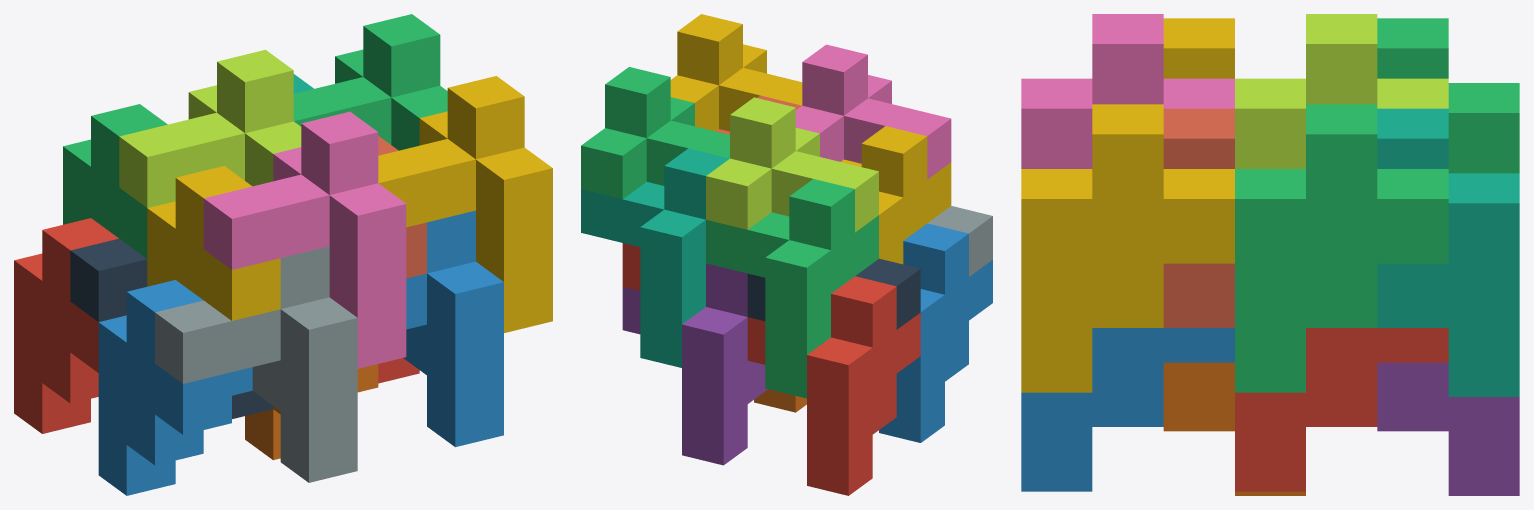
File: tiling.obj
3 renders of one model, left to right at view 1: azimuth 30°, elevation 25°; view 2: azimuth 150°, elevation 25°; view 3: azimuth 270°, elevation 25°, orthographic. The views are drawn at different scales.
Parts seen in each view (by area): view 1: copy_2_domain_4, copy_2_domain_2, copy_2_domain_8, copy_1_domain_2, copy_2_domain_6, copy_2_domain_3, copy_1_domain_1, copy_2_domain_7, copy_1_domain_4, copy_1_domain_3, copy_2_domain_1, copy_1_domain_6 (+2 smaller); view 2: copy_1_domain_3, copy_1_domain_1, copy_1_domain_7, copy_1_domain_5, copy_2_domain_3, copy_1_domain_2, copy_2_domain_7, copy_2_domain_4, copy_2_domain_8, copy_1_domain_4, copy_2_domain_1, copy_2_domain_2 (+2 smaller); view 3: copy_2_domain_8, copy_2_domain_7, copy_1_domain_7, copy_2_domain_6, copy_2_domain_5, copy_2_domain_4, copy_2_domain_3, copy_1_domain_5, copy_1_domain_3, copy_1_domain_8, copy_1_domain_6, copy_1_domain_4.
Boxes of the visible parts, bbox=[...] form: copy_2_domain_4: bbox=[203, 111, 406, 368]; copy_2_domain_2: bbox=[155, 246, 357, 482]; copy_2_domain_8: bbox=[378, 76, 552, 332]; copy_1_domain_2: bbox=[98, 280, 252, 495]; copy_2_domain_6: bbox=[403, 210, 503, 447]; copy_2_domain_3: bbox=[119, 49, 301, 207]; copy_1_domain_1: bbox=[14, 218, 118, 433]; copy_2_domain_7: bbox=[293, 14, 447, 150]; copy_1_domain_4: bbox=[147, 166, 280, 320]; copy_1_domain_3: bbox=[63, 104, 167, 258]; copy_2_domain_1: bbox=[70, 238, 273, 418]; copy_1_domain_6: bbox=[245, 364, 378, 460]; copy_1_domain_3: bbox=[706, 179, 878, 398]; copy_1_domain_1: bbox=[747, 276, 920, 495]; copy_1_domain_7: bbox=[581, 148, 729, 367]; copy_1_domain_5: bbox=[622, 263, 767, 465]; copy_2_domain_3: bbox=[706, 97, 878, 232]; copy_1_domain_2: bbox=[879, 223, 992, 442]; copy_2_domain_7: bbox=[581, 67, 729, 199]; copy_2_domain_4: bbox=[795, 44, 951, 179]; copy_2_domain_8: bbox=[670, 14, 802, 131]; copy_1_domain_4: bbox=[841, 126, 951, 264]; copy_2_domain_1: bbox=[747, 258, 920, 329]; copy_2_domain_2: bbox=[927, 206, 992, 276]; copy_2_domain_8: bbox=[1021, 104, 1234, 392]; copy_2_domain_7: bbox=[1235, 104, 1448, 392]; copy_1_domain_7: bbox=[1377, 108, 1519, 396]; copy_2_domain_6: bbox=[1021, 328, 1234, 491]; copy_2_domain_5: bbox=[1235, 328, 1448, 491]; copy_2_domain_4: bbox=[1021, 14, 1234, 168]; copy_2_domain_3: bbox=[1235, 14, 1448, 168]; copy_1_domain_5: bbox=[1377, 362, 1519, 495]; copy_1_domain_3: bbox=[1377, 18, 1519, 173]; copy_1_domain_8: bbox=[1163, 108, 1234, 327]; copy_1_domain_6: bbox=[1163, 362, 1305, 495]; copy_1_domain_4: bbox=[1163, 18, 1234, 78].
Bounding box in the file's own units: 7 × 7 × 7.
